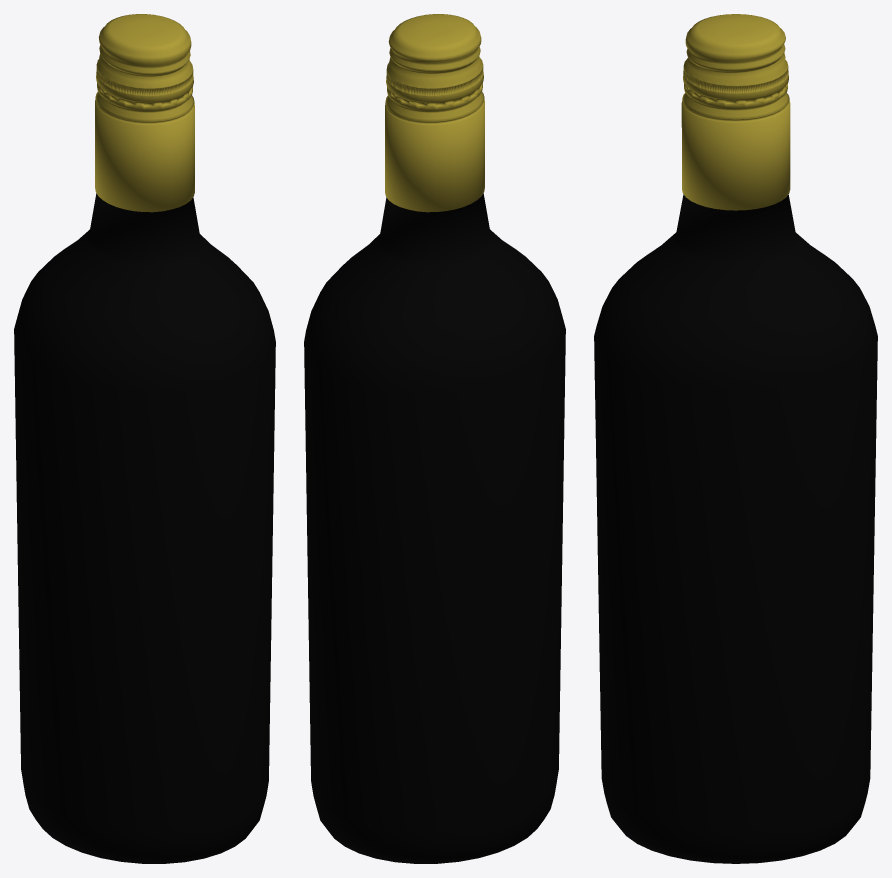
3 views of the same model, side by side, from view 1: azimuth 30°, elevation 25°; view 2: azimuth 150°, elevation 25°; view 3: azimuth 270°, elevation 25° (orthographic).
Visible parts, largest first — view 1: WineBottle; view 2: WineBottle; view 3: WineBottle.
Part boxes in pixels (x1,y1,x2,y2): WineBottle: (14, 14, 275, 863); WineBottle: (304, 14, 565, 863); WineBottle: (594, 14, 877, 863).
Bounding box in the file's own units: 2.35 × 8.07 × 2.61.
